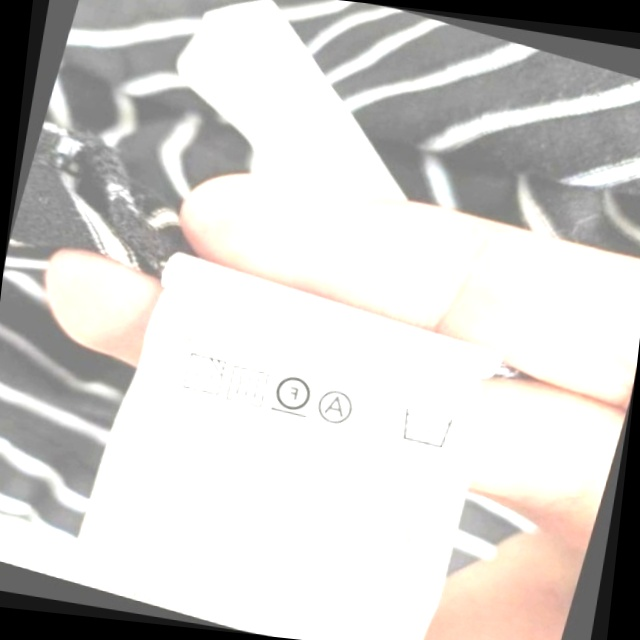95C: (392, 399, 460, 455)
bleach: (356, 391, 403, 442)
drip_dry: (220, 358, 276, 412)
drip_dry_in_shade: (173, 346, 230, 402)
dry_clean: (312, 383, 361, 431)
dry_clean_petrol_only: (267, 365, 319, 422)
